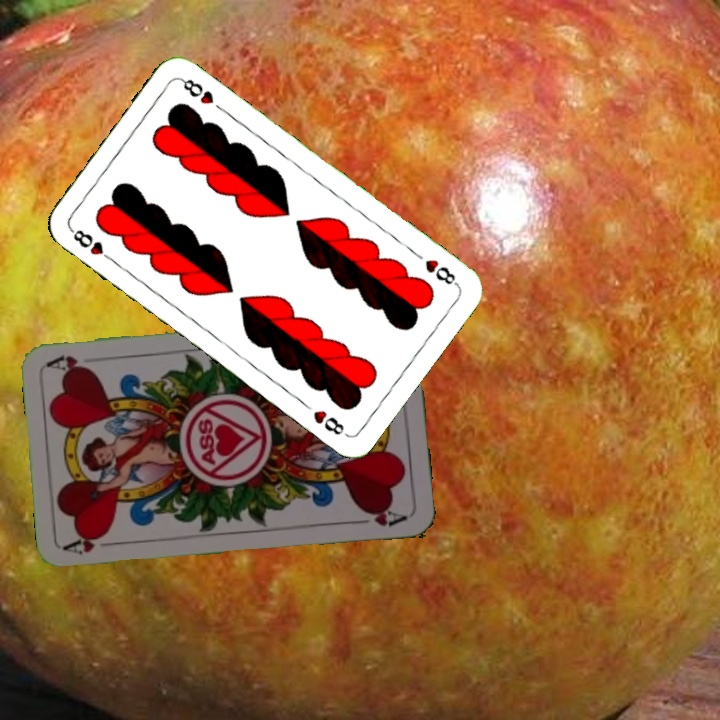H8: (66, 224, 117, 265), (421, 255, 461, 289)
HA: (61, 529, 120, 558)
